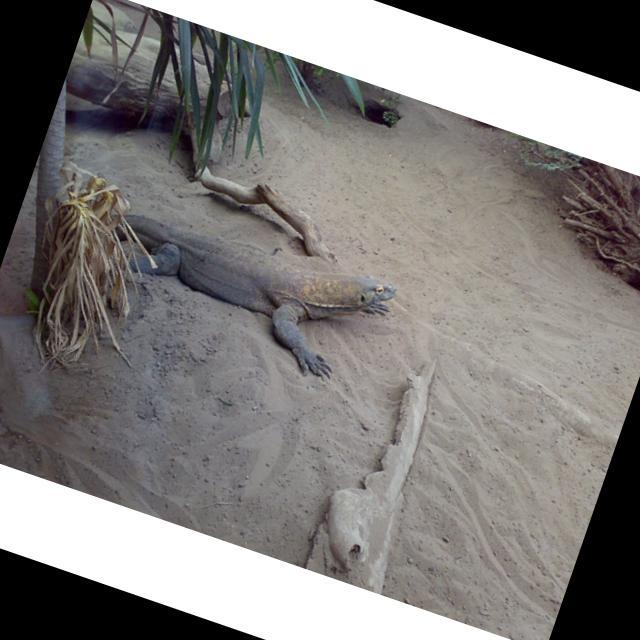KomodoDragon: (71, 188, 401, 399)
